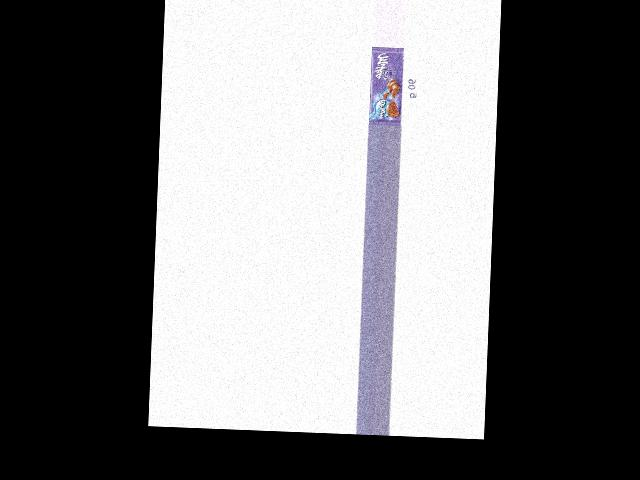chocolate: (368, 48, 403, 126)
